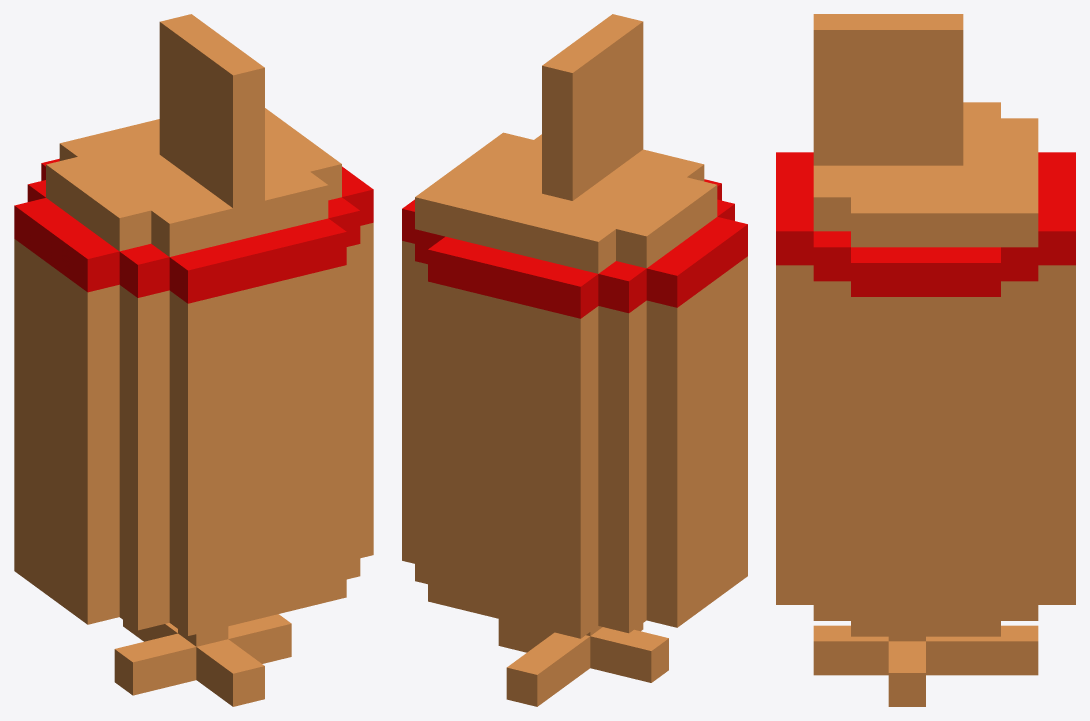
Rendered from dummy basic.gltf.
3 renders of one model, left to right at view 1: azimuth 30°, elevation 25°; view 2: azimuth 150°, elevation 25°; view 3: azimuth 270°, elevation 25°, orthographic. The views are drawn at different scales.
Visible parts, largest first — view 1: Layer.1; view 2: Layer.1; view 3: Layer.1.
Part boxes in pixels (x1=…): Layer.1: x1=14, y1=14, x2=373, y2=706; Layer.1: x1=402, y1=14, x2=747, y2=706; Layer.1: x1=776, y1=14, x2=1075, y2=706.
Size of the model in its own units: 9 by 19 by 8.
Materials: 1 (1 with a texture image).
